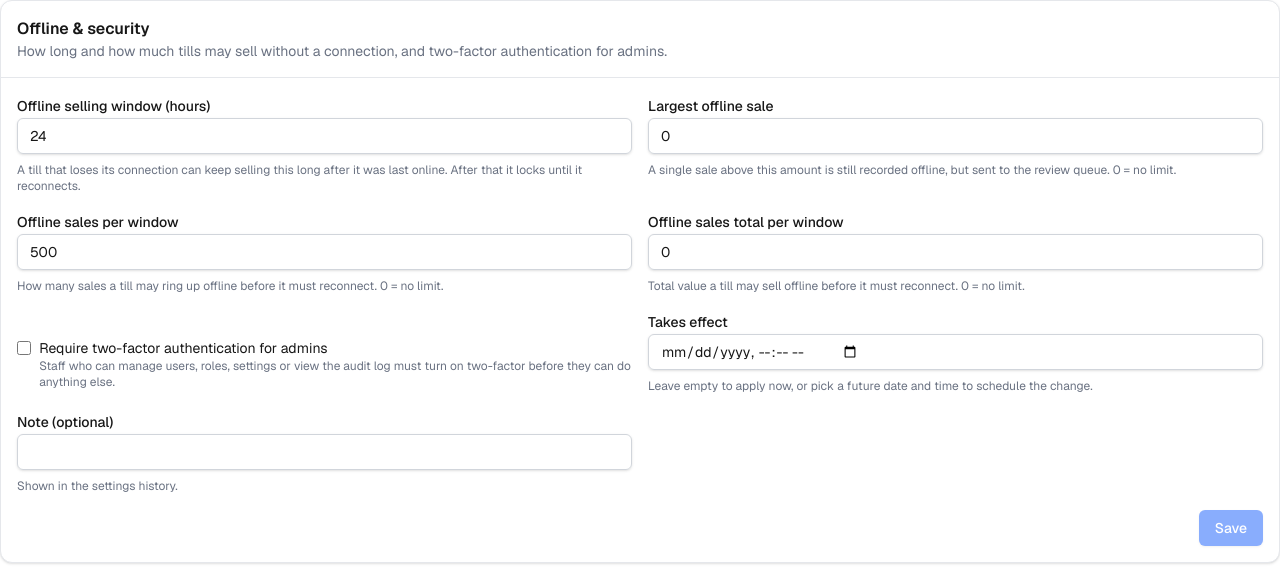
Test: SettingsSecurity offline limits › refuses a limit that is not a number
Replace the text in the field labelled "Offline sales per window" with "lots" at (324, 252), box x1=17 y1=234 x2=632 y2=270
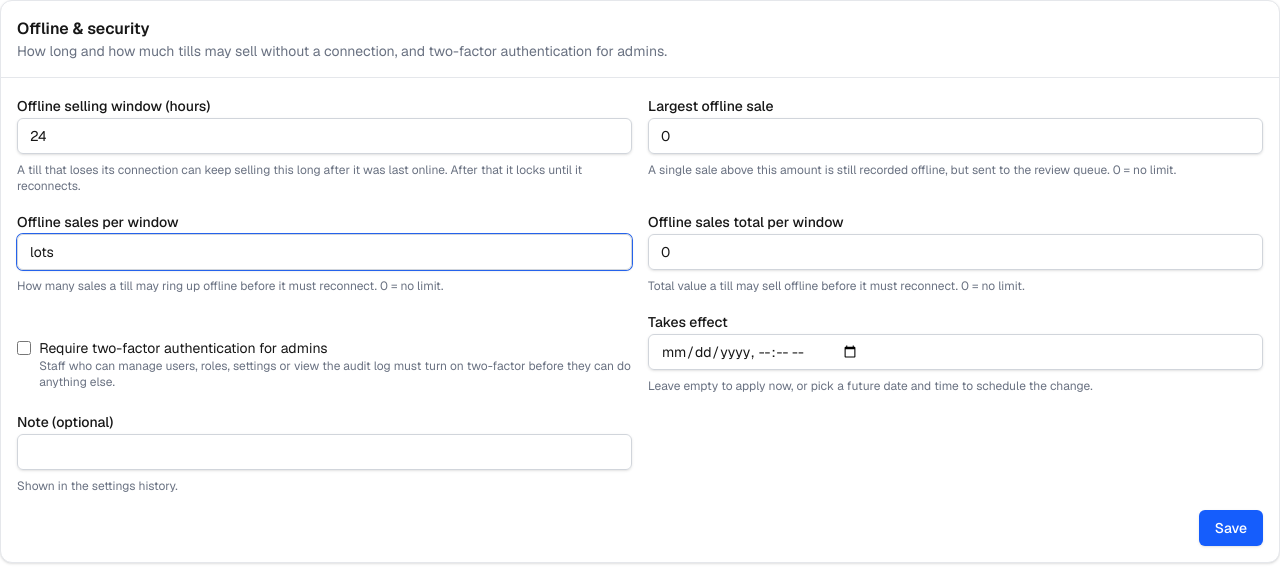
Click the button "Save" at (1231, 528), box x1=1199 y1=510 x2=1263 y2=546
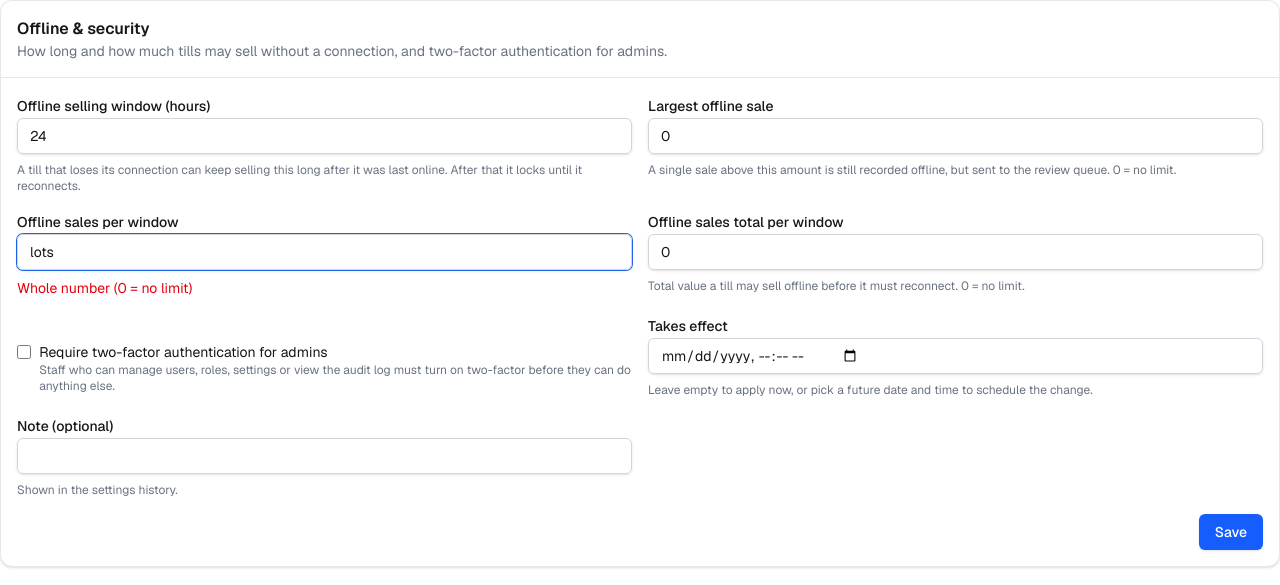
Check: the text "Whole number (0 = no limit)" is shown, box x1=17 y1=279 x2=192 y2=297
